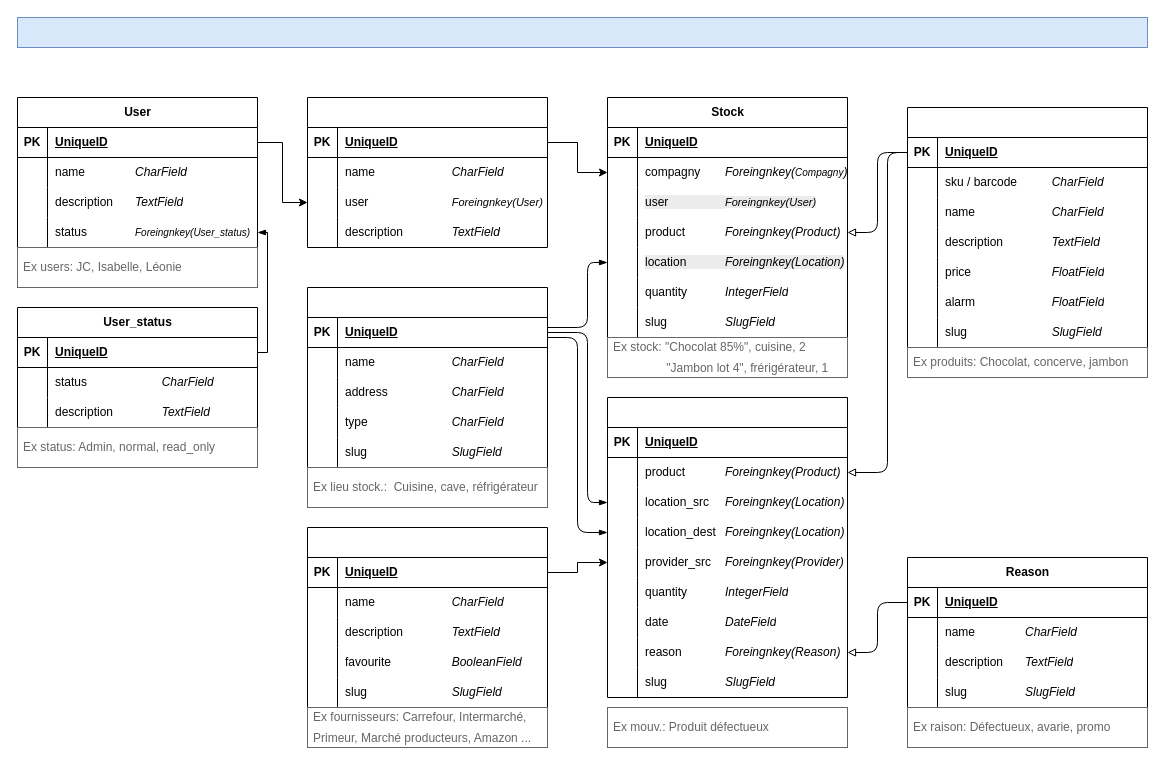
The diagram is 1165 pixels wide and 765 high, and some of its shapes have lost their labels. The box of each missing label's shape, as (x1, y1, x2, y2) in pixels:
Company: (306, 96, 548, 248)
Location: (306, 286, 548, 468)
Movement: (606, 396, 848, 698)
Product: (906, 106, 1148, 348)
Provider: (306, 526, 548, 708)
Stock - Database diagram: (16, 16, 1148, 48)
